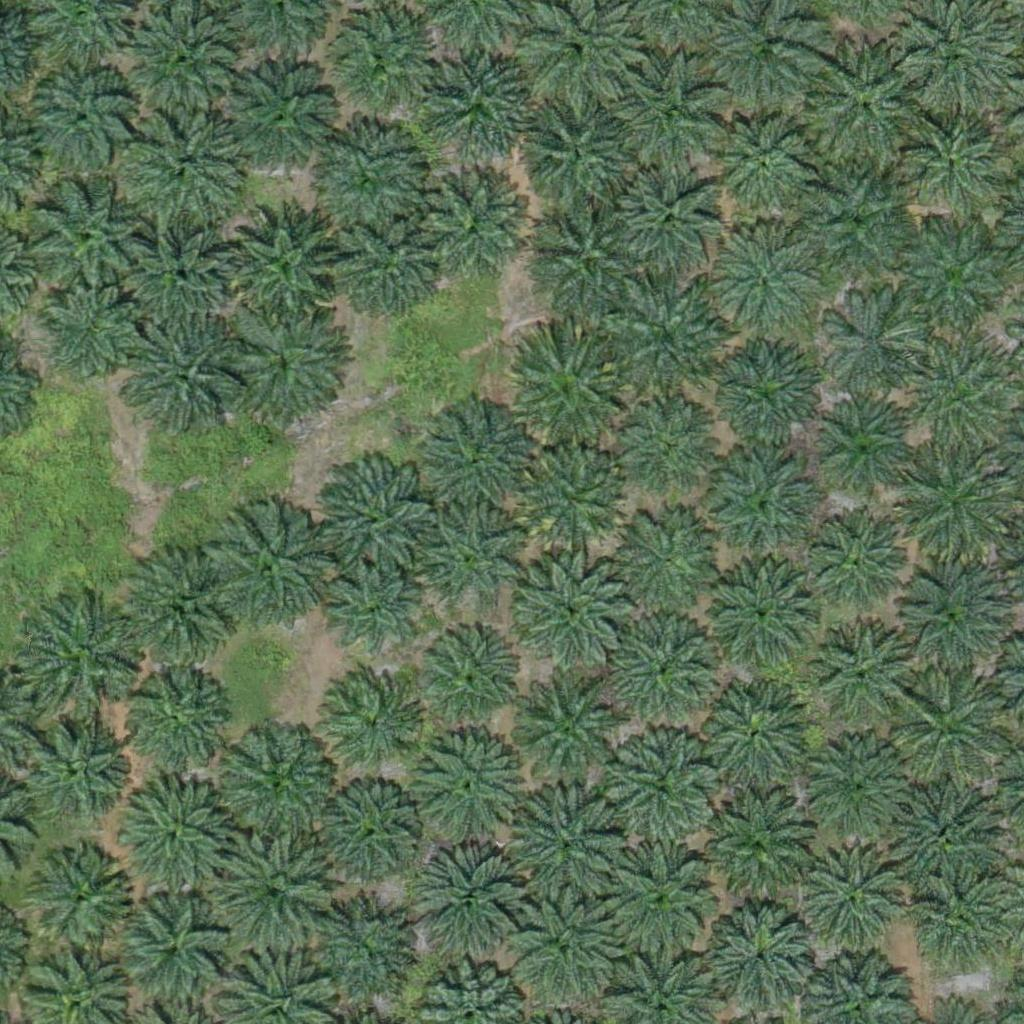Kelapa_Sawit: (21, 178, 146, 304), (125, 106, 250, 232), (121, 314, 246, 440), (220, 199, 345, 325), (224, 303, 349, 429), (809, 44, 934, 170), (311, 457, 436, 583), (205, 510, 330, 636), (22, 595, 147, 721), (212, 828, 337, 954), (214, 718, 339, 844), (301, 117, 426, 242), (504, 332, 629, 457), (35, 277, 148, 391), (124, 549, 237, 663), (221, 62, 334, 175), (327, 207, 440, 320), (614, 164, 727, 277), (611, 60, 724, 173), (710, 344, 823, 457), (895, 666, 1008, 779), (887, 779, 1000, 892), (796, 844, 909, 957), (700, 555, 813, 668), (518, 551, 631, 664), (515, 678, 628, 791), (509, 791, 622, 904), (408, 725, 521, 838), (508, 899, 621, 1012), (602, 842, 715, 955), (114, 776, 227, 889), (113, 893, 226, 1006), (800, 173, 912, 287), (895, 224, 1007, 338), (900, 444, 1012, 558), (409, 847, 521, 961), (27, 66, 139, 179), (119, 222, 231, 335), (418, 170, 530, 283), (425, 45, 537, 158), (522, 102, 634, 215), (529, 200, 641, 313), (611, 287, 723, 400), (899, 344, 1011, 457), (893, 563, 1005, 676), (696, 676, 808, 789), (703, 794, 815, 907), (609, 503, 721, 616), (610, 613, 722, 726), (608, 729, 720, 842), (706, 907, 818, 1020), (718, 229, 818, 330), (812, 400, 912, 501), (805, 511, 905, 612), (809, 618, 909, 719), (807, 735, 907, 836), (713, 453, 813, 554), (616, 396, 716, 497), (522, 446, 622, 547), (432, 408, 532, 509), (420, 506, 520, 607), (416, 627, 516, 728), (322, 559, 422, 660), (25, 718, 125, 819), (31, 846, 131, 947), (711, 112, 811, 212), (818, 297, 918, 397), (904, 108, 1004, 208), (320, 674, 420, 774), (318, 783, 418, 883), (303, 906, 403, 1006), (124, 667, 224, 767), (916, 883, 991, 958)
